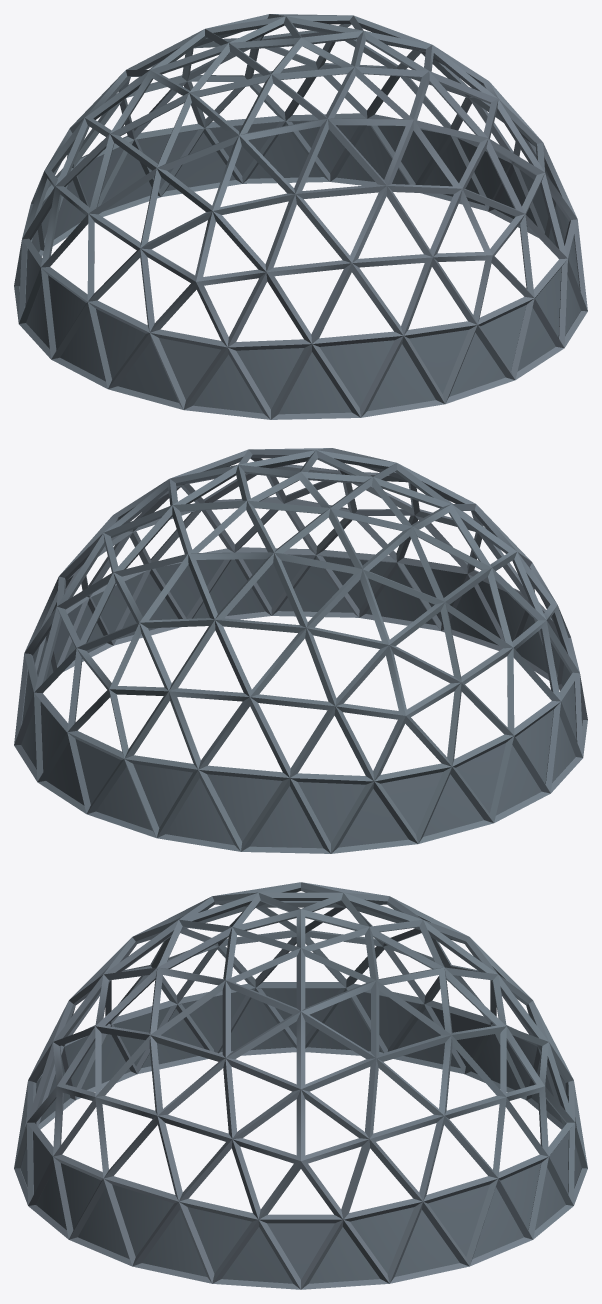
Rendered from Cupula_Alisson3d.fbx.
3 renders of one model, top to bottom at view 1: azimuth 30°, elevation 25°; view 2: azimuth 150°, elevation 25°; view 3: azimuth 270°, elevation 25°, orthographic.
Parts seen in each view (by area): view 1: CUPULAT05, CUPULAT01, CUPULAP01, CUPULAT03, CUPULAP05, CUPULAT02, CUPULATO4, CUPULA01, CUPULAP02, CUPULAP03, CUPULAP04; view 2: CUPULAT02, CUPULAT01, CUPULAP02, CUPULATO4, CUPULAP03, CUPULAT05, CUPULAT03, CUPULA01, CUPULAP01, CUPULAP05, CUPULAP04; view 3: CUPULATO4, CUPULAT03, CUPULAP04, CUPULAT01, CUPULAP05, CUPULAP03, CUPULA01, CUPULAT02, CUPULAT05, CUPULAP02, CUPULAP01.
Boxes of the visible parts, bbox=[...] form: CUPULAT05: bbox=[184, 184, 514, 419]; CUPULAT01: bbox=[14, 134, 183, 409]; CUPULAP01: bbox=[140, 74, 328, 409]; CUPULAT03: bbox=[243, 39, 538, 237]; CUPULAP05: bbox=[328, 67, 534, 380]; CUPULAT02: bbox=[32, 61, 242, 256]; CUPULATO4: bbox=[483, 99, 587, 379]; CUPULA01: bbox=[189, 15, 428, 119]; CUPULAP02: bbox=[14, 29, 228, 285]; CUPULAP03: bbox=[182, 14, 351, 183]; CUPULAP04: bbox=[354, 15, 555, 237]; CUPULAT02: bbox=[87, 618, 417, 853]; CUPULAT01: bbox=[418, 568, 587, 843]; CUPULAP02: bbox=[273, 508, 461, 843]; CUPULATO4: bbox=[63, 473, 358, 671]; CUPULAP03: bbox=[67, 501, 273, 814]; CUPULAT05: bbox=[359, 495, 569, 690]; CUPULAT03: bbox=[14, 533, 118, 813]; CUPULA01: bbox=[173, 449, 412, 553]; CUPULAP01: bbox=[373, 463, 587, 719]; CUPULAP05: bbox=[250, 448, 419, 617]; CUPULAP04: bbox=[46, 449, 247, 671]; CUPULATO4: bbox=[28, 1035, 300, 1289]; CUPULAT03: bbox=[301, 1035, 573, 1289]; CUPULAP04: bbox=[222, 948, 379, 1289]; CUPULAT01: bbox=[137, 901, 464, 1074]; CUPULAP05: bbox=[26, 920, 231, 1205]; CUPULAP03: bbox=[370, 920, 575, 1205]; CUPULA01: bbox=[179, 882, 422, 982]; CUPULAT02: bbox=[465, 937, 587, 1204]; CUPULAT05: bbox=[14, 937, 136, 1204]; CUPULAP02: bbox=[302, 882, 496, 1073]; CUPULAP01: bbox=[105, 882, 299, 1073].
Bounding box in the file's own units: 12439 × 6230 × 12439.
